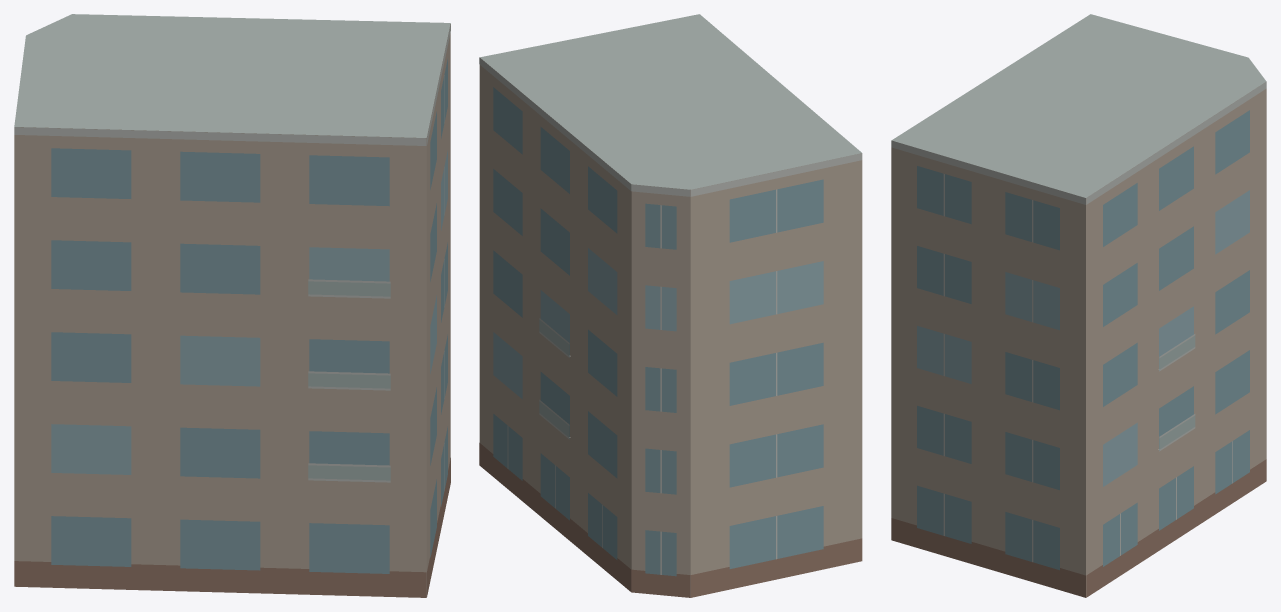
Rendered from survey-upis-32813998.glb.
3 views of the same model, side by side, from view 1: azimuth 30°, elevation 25°; view 2: azimuth 150°, elevation 25°; view 3: azimuth 270°, elevation 25° (orthographic). The views are drawn at different scales.
Visible parts, largest first — view 1: survey-upis-32813998.tmp; view 2: survey-upis-32813998.tmp; view 3: survey-upis-32813998.tmp.
Boxes of the visible parts, <box> form: survey-upis-32813998.tmp: <box>14,14,450,597</box>; survey-upis-32813998.tmp: <box>479,14,862,597</box>; survey-upis-32813998.tmp: <box>891,14,1266,597</box>.
Size of the model in its own units: 13.83 by 14 by 11.92.
